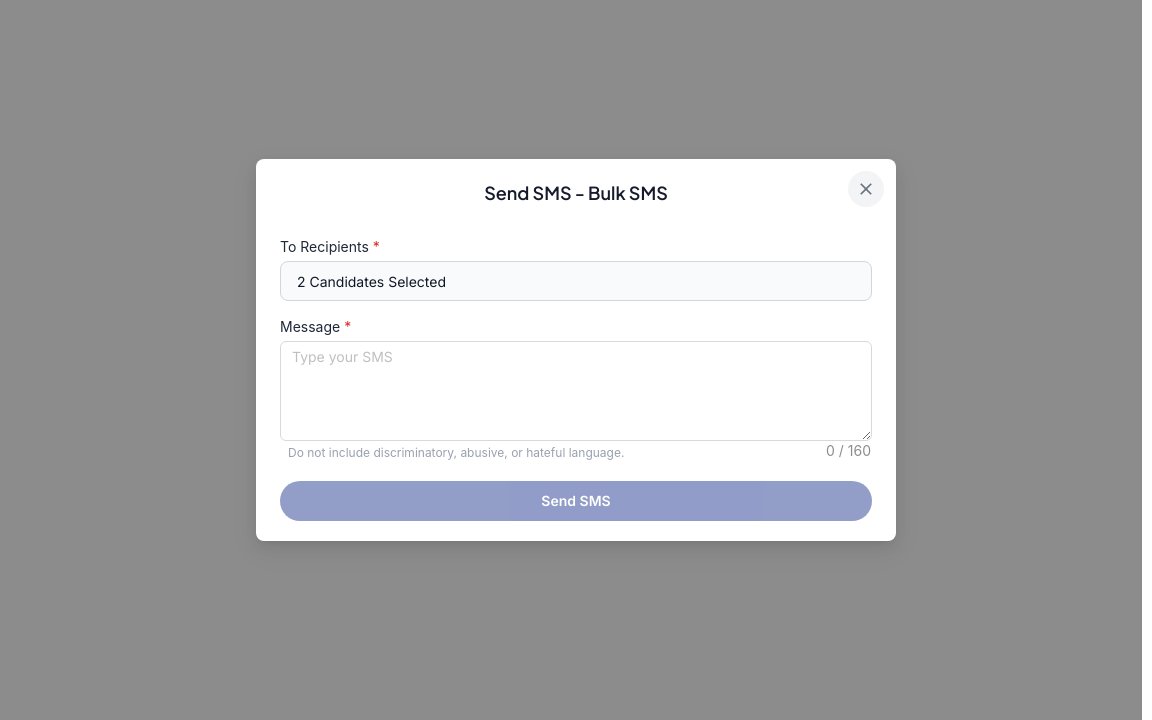
it: Send SMS to several candidates › still shows the per-candidate Results screen
The image size is (1152, 720).
Type "Hello" into the text box with placeholder "Type your SMS" at [576, 391], box x1=281 y1=342 x2=871 y2=440
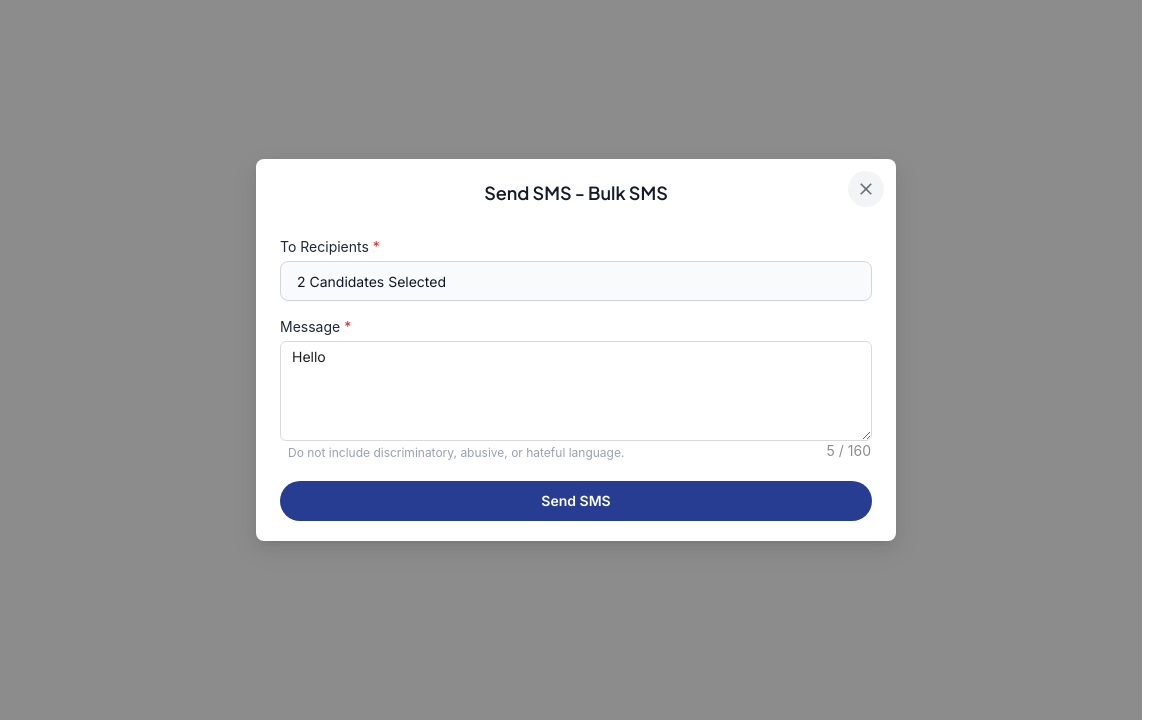
Click the button "Send SMS" at [576, 501], box x1=280 y1=481 x2=872 y2=521
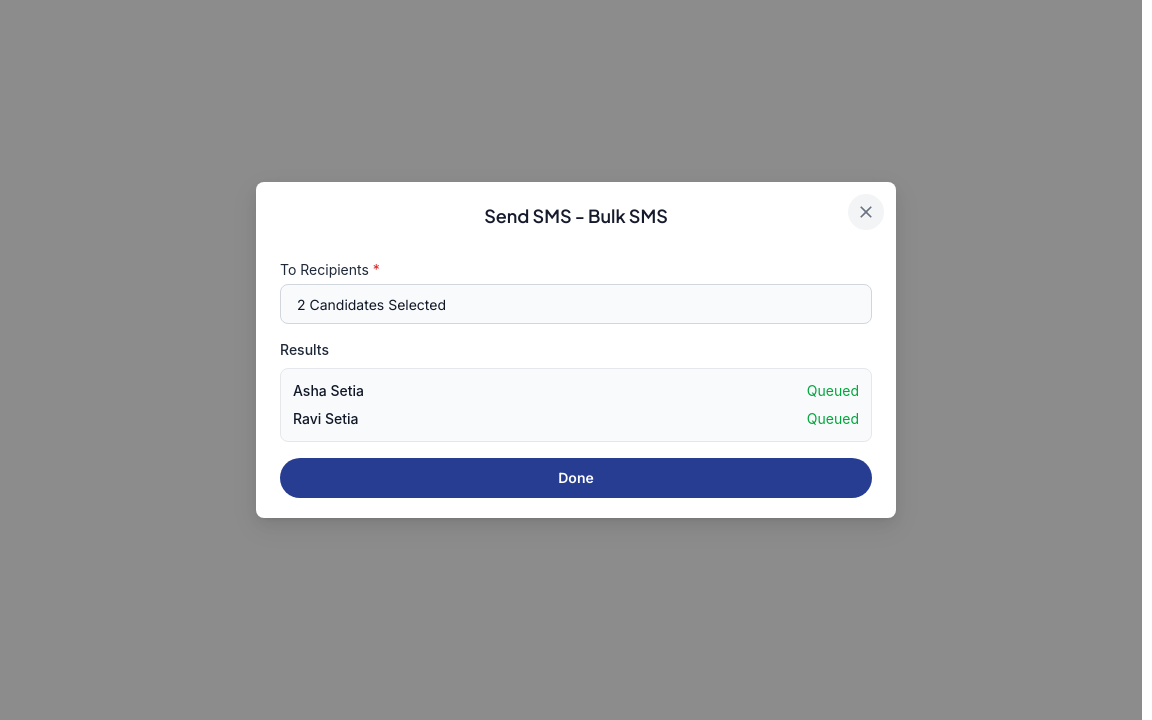
Result: the text "Results" is shown at x1=280 y1=341 x2=329 y2=358
Result: the text "Queued" is shown 2 times at x1=807 y1=381 x2=859 y2=401; x1=807 y1=409 x2=859 y2=429
